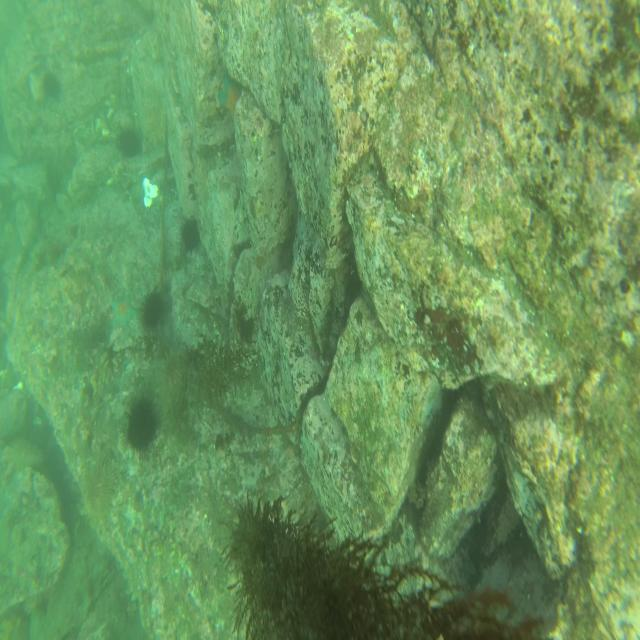echinus: (78, 458, 119, 525), (120, 391, 163, 454), (177, 215, 201, 256), (140, 288, 163, 328), (117, 127, 140, 159), (40, 70, 61, 101)
starfish: (214, 74, 243, 123), (108, 291, 140, 332)
